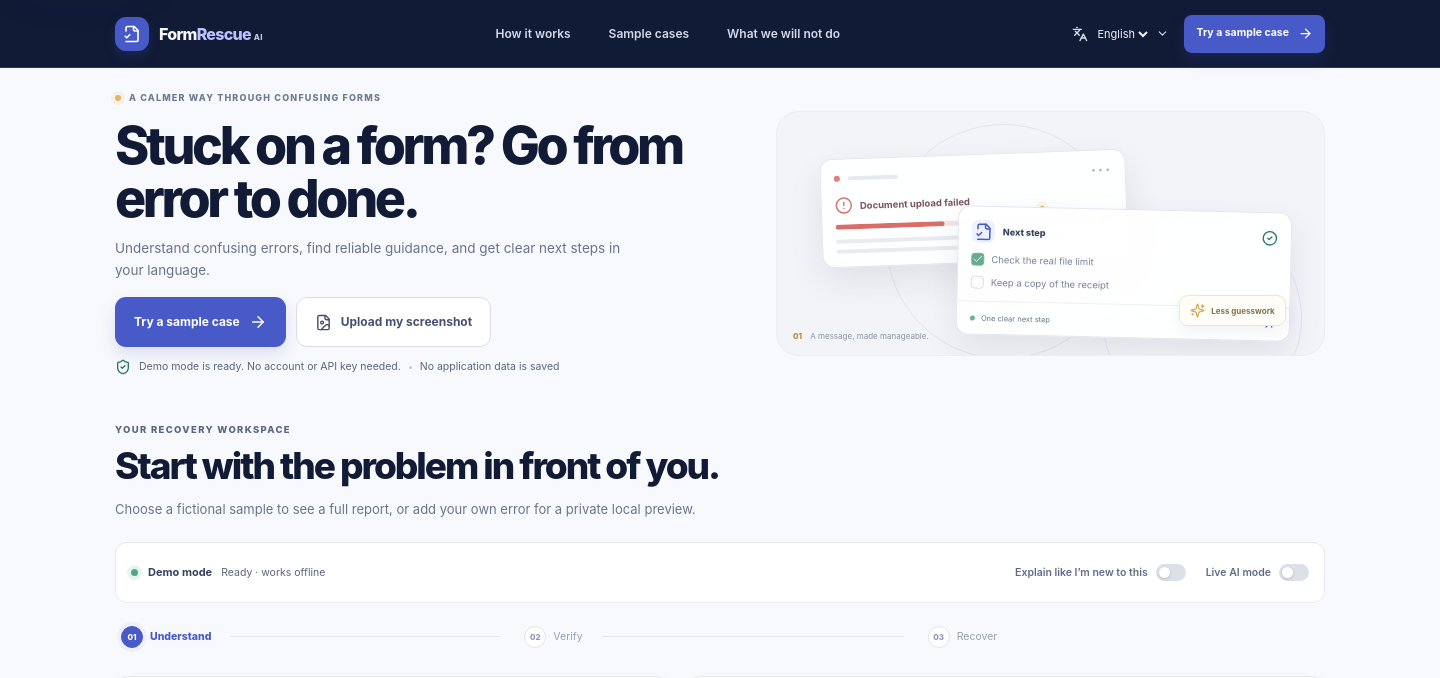
Scenario: FormRescue user workflows › renders complete Hindi evidence, source and recovery content for northstar-name
This screenshot has width=1440, height=678.
Step 1. Click the button "Try a sample case" in the row of "Sample cases" → (1255, 34), box 1184,14 -> 1325,52
(page scrolled)
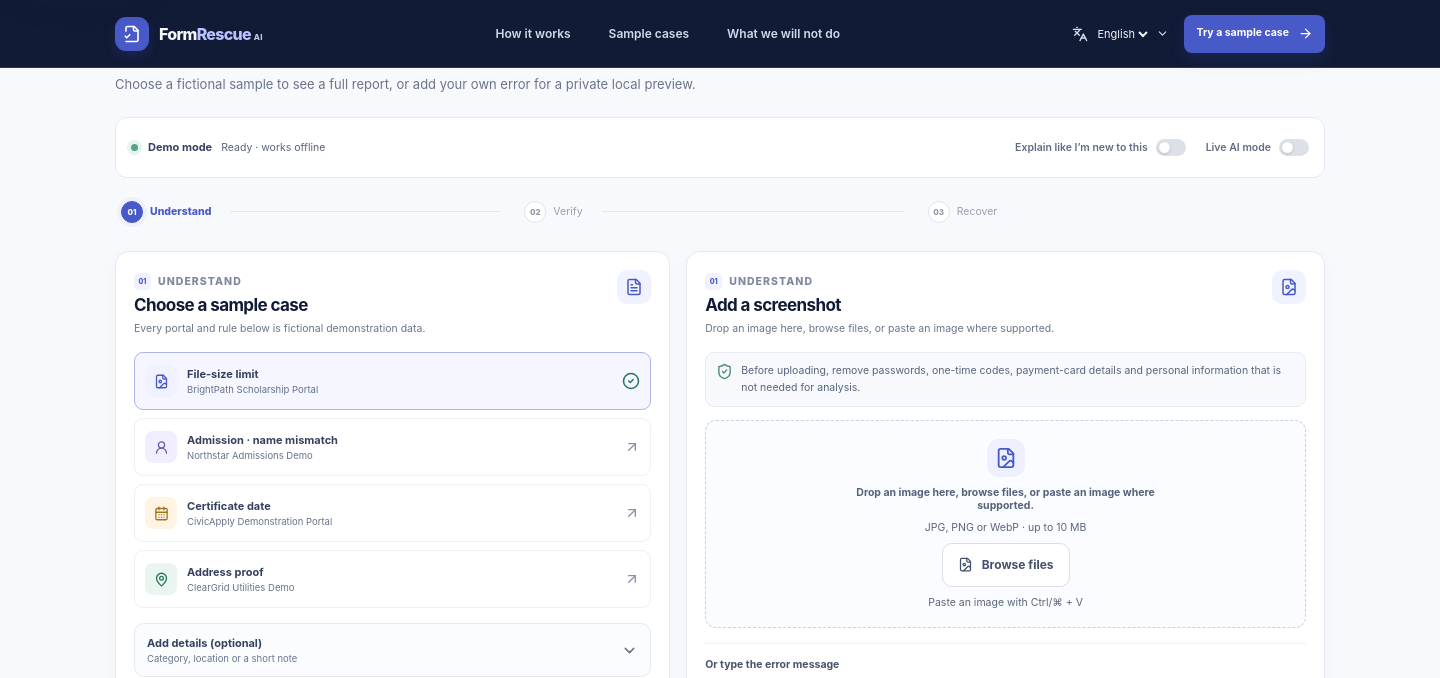
Step 2. Click the button "Admission · name mismatch Northstar Admissions Demo" → (161, 447), box 134,418 -> 651,476
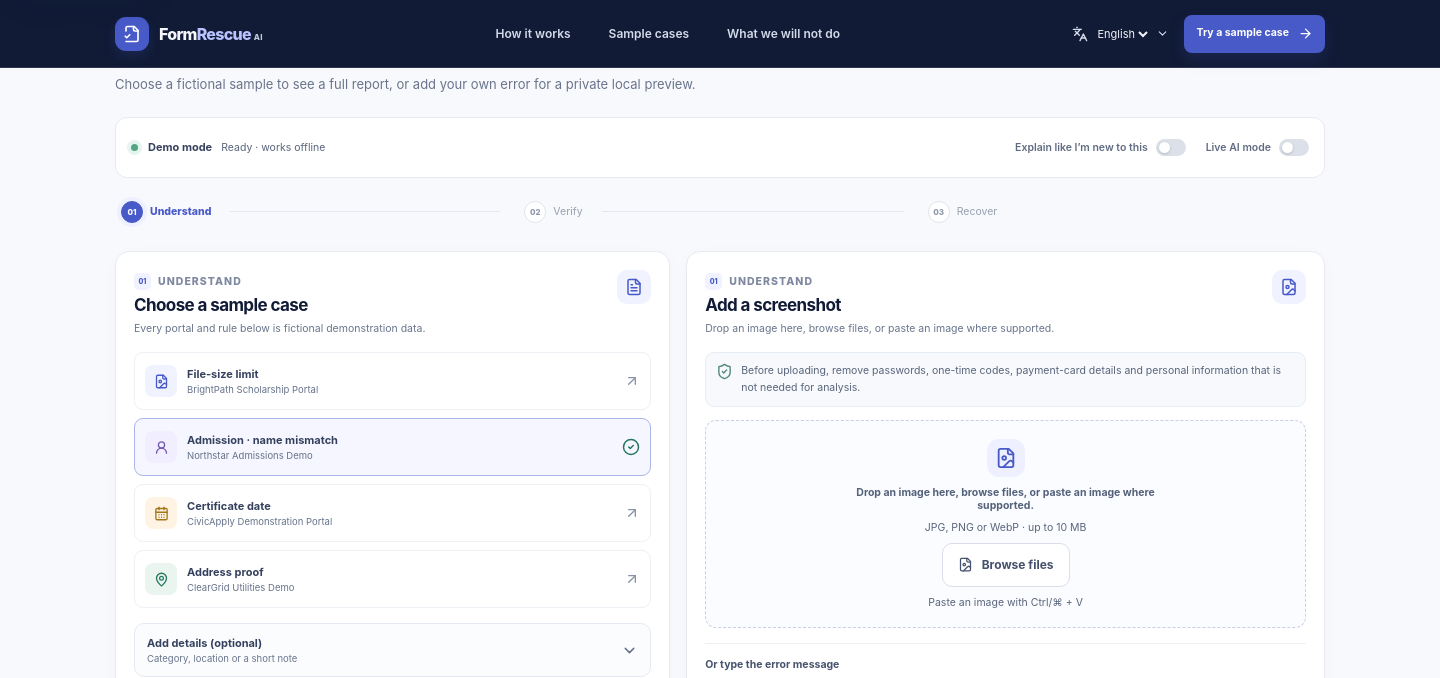
Step 3. Select "हिन्दी" in the dropdown named "Language" → (1122, 34), box 1094,26 -> 1152,42
(page scrolled)
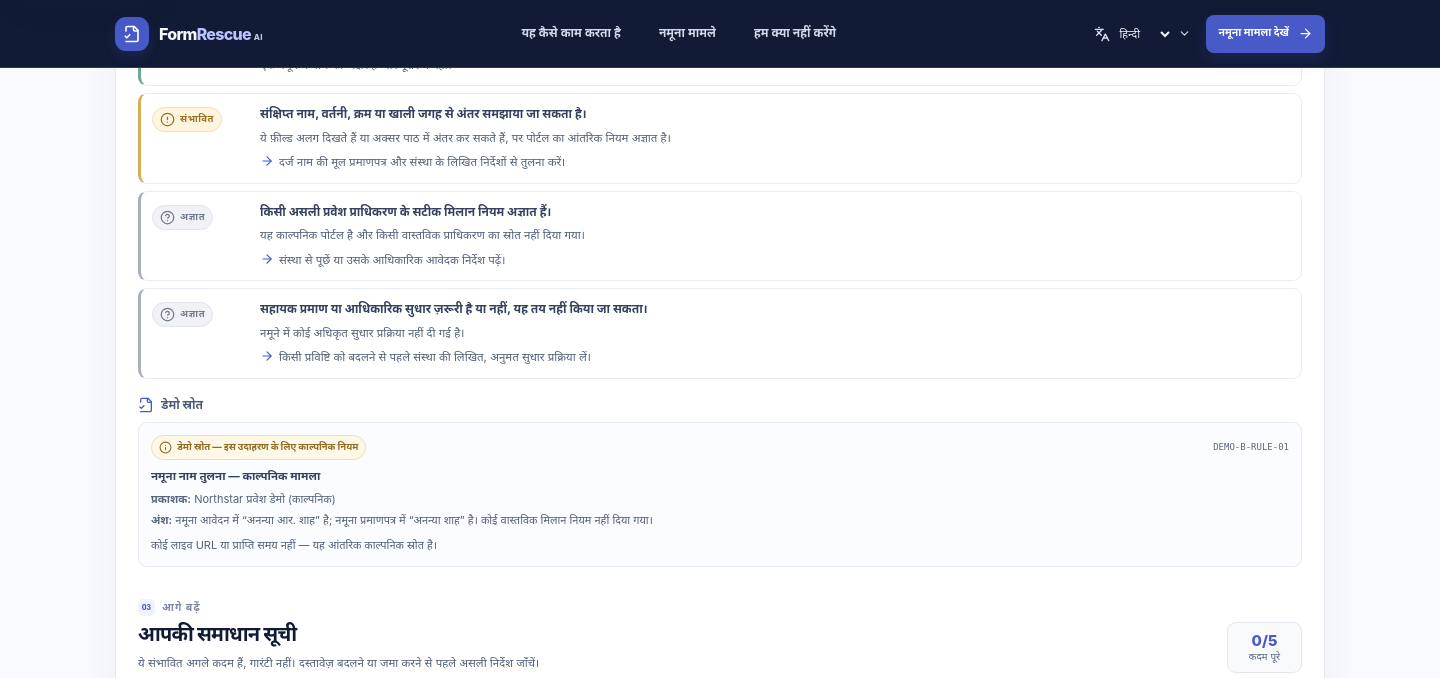
Result: the text "DEMO-B-RULE-01" is shown at 1213,442 -> 1289,452
Result: the text "डेमो स्रोत — इस उदाहरण के लिए काल्पनिक नियम" is shown at 151,434 -> 366,460
